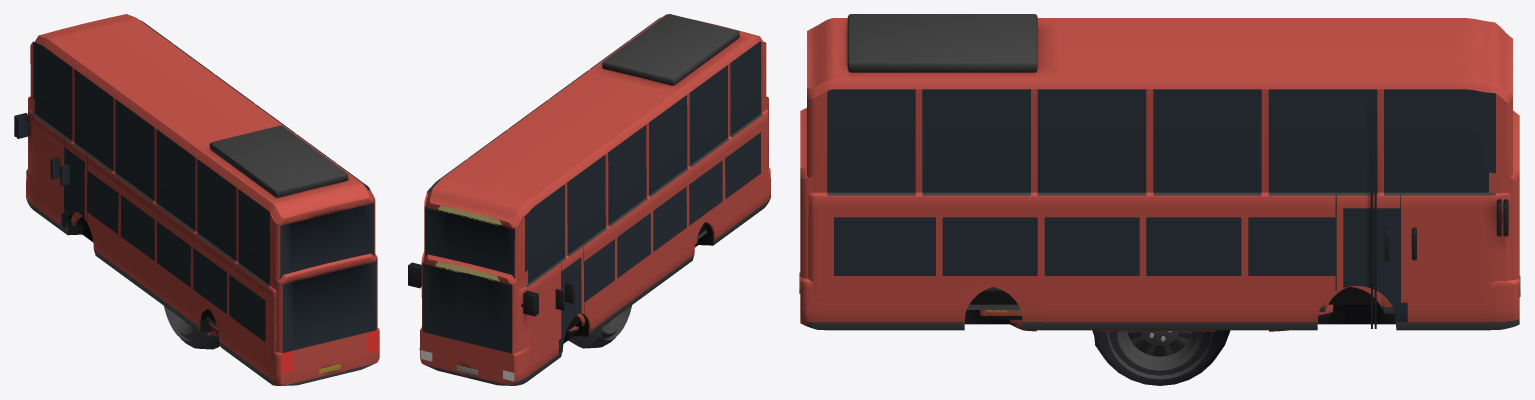
File: vehicles.glb
3 views of the same model, side by side, from view 1: azimuth 30°, elevation 25°; view 2: azimuth 150°, elevation 25°; view 3: azimuth 270°, elevation 25° (orthographic). The views are drawn at different scales.
Parts seen in each view (by area): view 1: decker_lod0, bus_lod0, wheel_bike_lod0; view 2: decker_lod0, bus_lod0, wheel_bike_lod0, fire_lod0; view 3: decker_lod0, bus_lod0, wheel_alloy2_lod0, wheel_bike_lod0, wheel_truck_lod0.
Boxes of the visible parts, left/top/right/bottom form: decker_lod0: left=16, top=14, right=375, bottom=382; bus_lod0: left=14, top=96, right=379, bottom=385; wheel_bike_lod0: left=164, top=306, right=219, bottom=346; decker_lod0: left=410, top=14, right=768, bottom=378; bus_lod0: left=408, top=96, right=770, bottom=385; wheel_bike_lod0: left=572, top=305, right=631, bottom=345; fire_lod0: left=555, top=222, right=706, bottom=326; decker_lod0: left=807, top=14, right=1512, bottom=330; bus_lod0: left=799, top=108, right=1520, bottom=330; wheel_alloy2_lod0: left=1094, top=331, right=1225, bottom=384; wheel_bike_lod0: left=1093, top=330, right=1226, bottom=379; wheel_truck_lod0: left=1095, top=331, right=1225, bottom=385.
Size of what is drawn, in the model's own units: 3.08 by 5.6 by 10.62.
